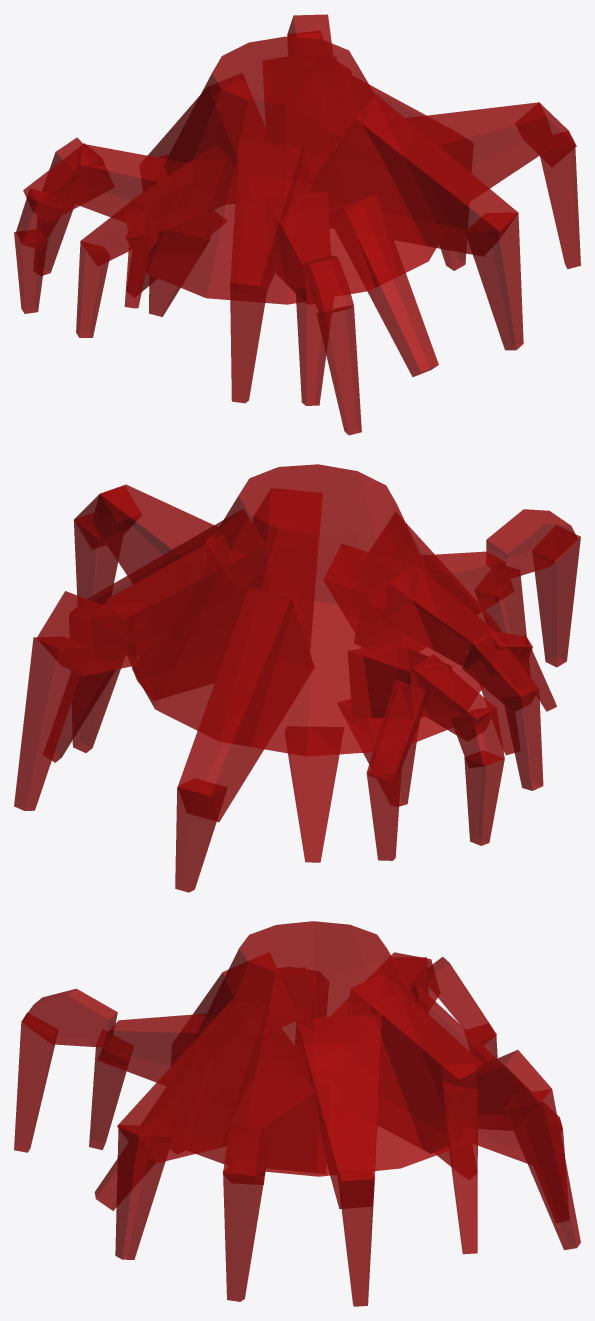
File: Swamp_Tree_Roots_01_Collision.fbx
The picture shows the model from 3 angles, top to bottom: view 1: azimuth 30°, elevation 25°; view 2: azimuth 150°, elevation 25°; view 3: azimuth 270°, elevation 25°; orthographic projection. The views are drawn at different scales.
Visible parts, largest first — view 1: Swamp_Tree_Roots_01_Collision; view 2: Swamp_Tree_Roots_01_Collision; view 3: Swamp_Tree_Roots_01_Collision.
Boxes of the visible parts, x1=… form: Swamp_Tree_Roots_01_Collision: x1=14, y1=14, x2=580, y2=435; Swamp_Tree_Roots_01_Collision: x1=14, y1=464, x2=580, y2=892; Swamp_Tree_Roots_01_Collision: x1=14, y1=921, x2=580, y2=1306.
Size of the model in its own units: 433 by 241 by 445.
